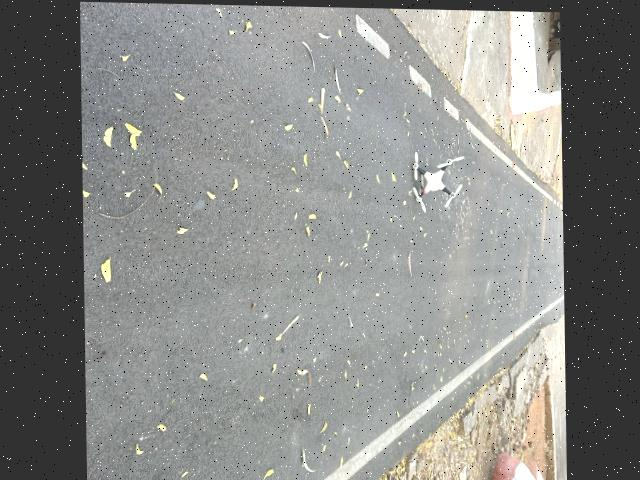drone: (389, 124, 479, 243)
